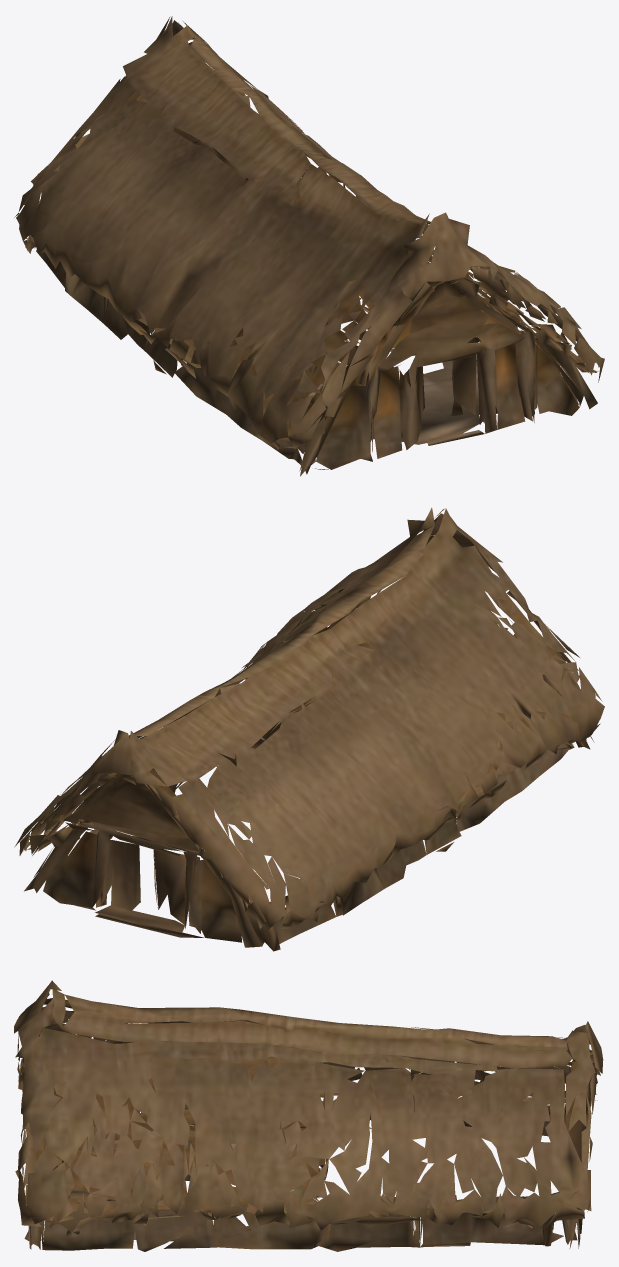
Rendered from peamaja_far.glb.
The picture shows the model from 3 angles, top to bottom: view 1: azimuth 30°, elevation 25°; view 2: azimuth 150°, elevation 25°; view 3: azimuth 270°, elevation 25°; orthographic projection. The views are drawn at different scales.
Visible parts, largest first — view 1: model; view 2: model; view 3: model.
Part boxes in pixels (x1,y1,x2,y2): model: (14, 16, 604, 476); model: (14, 507, 604, 951); model: (14, 980, 603, 1251).
Size of the model in its own units: 0.5787 by 0.3853 by 0.9994.
1 material, 1 textured.
